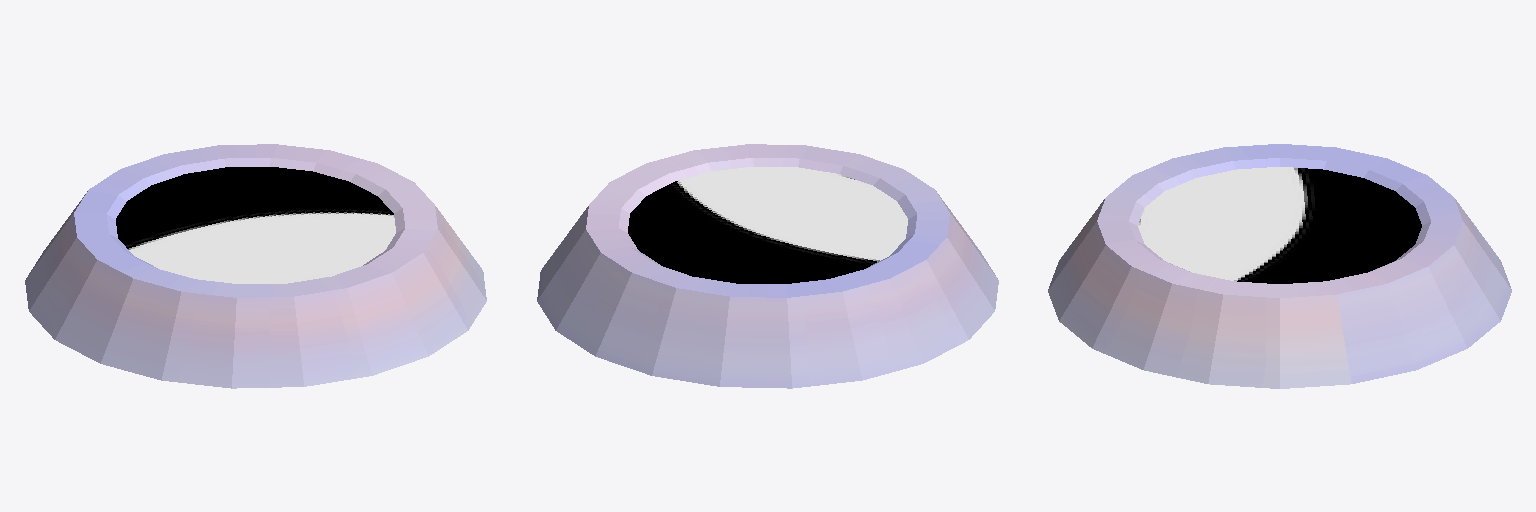
The picture shows the model from 3 angles: view 1: azimuth 30°, elevation 25°; view 2: azimuth 150°, elevation 25°; view 3: azimuth 270°, elevation 25°; orthographic projection.
Visible parts, largest first — view 1: polySurface4, polySurface3 pCylinder1; view 2: polySurface4, polySurface3 pCylinder1; view 3: polySurface4, polySurface3 pCylinder1.
Boxes of the visible parts, <box> form: polySurface4: <box>25,144,486,388</box>; polySurface3 pCylinder1: <box>116,167,395,283</box>; polySurface4: <box>537,144,998,388</box>; polySurface3 pCylinder1: <box>628,167,907,283</box>; polySurface4: <box>1048,144,1511,388</box>; polySurface3 pCylinder1: <box>1138,167,1421,283</box>.
Bounding box in the file's own units: 70.76 × 11.75 × 70.76.
Materials: 2 (2 with a texture image).